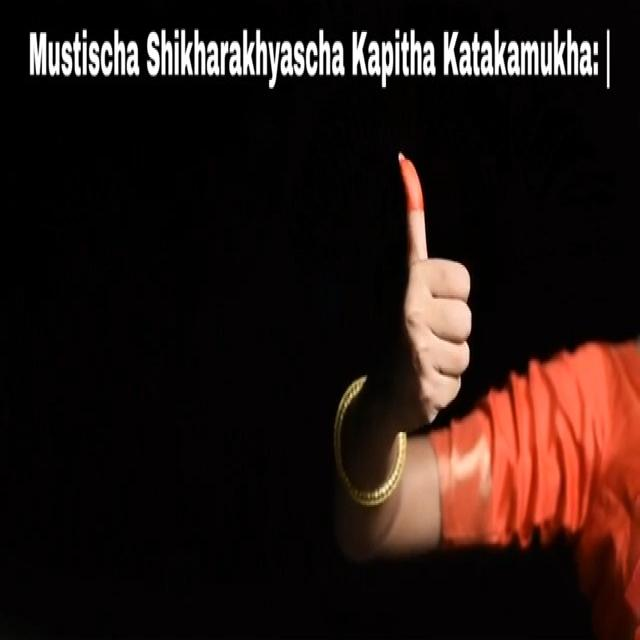Shikhara: (373, 136, 488, 461)
bangle: (316, 427, 414, 521)
text: (23, 15, 624, 103)
